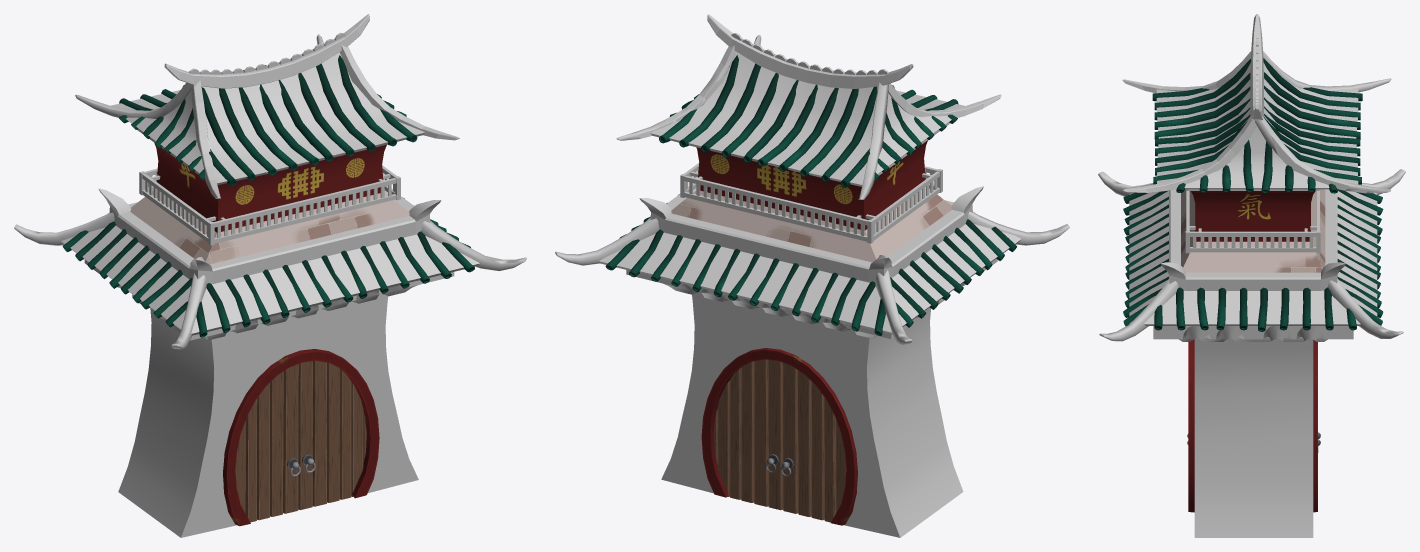
File: Building09.fbx
3 renders of one model, left to right at view 1: azimuth 30°, elevation 25°; view 2: azimuth 150°, elevation 25°; view 3: azimuth 270°, elevation 25°, orthographic. The views are drawn at different scales.
Parts seen in each view (by area): view 1: Building09; view 2: Building09; view 3: Building09.
Part boxes in pixels (x1,y1,x2,y2): Building09: (14, 14, 526, 537); Building09: (555, 14, 1069, 537); Building09: (1098, 14, 1405, 537).
Size of the model in its own units: 1402 by 1684 by 1106.
